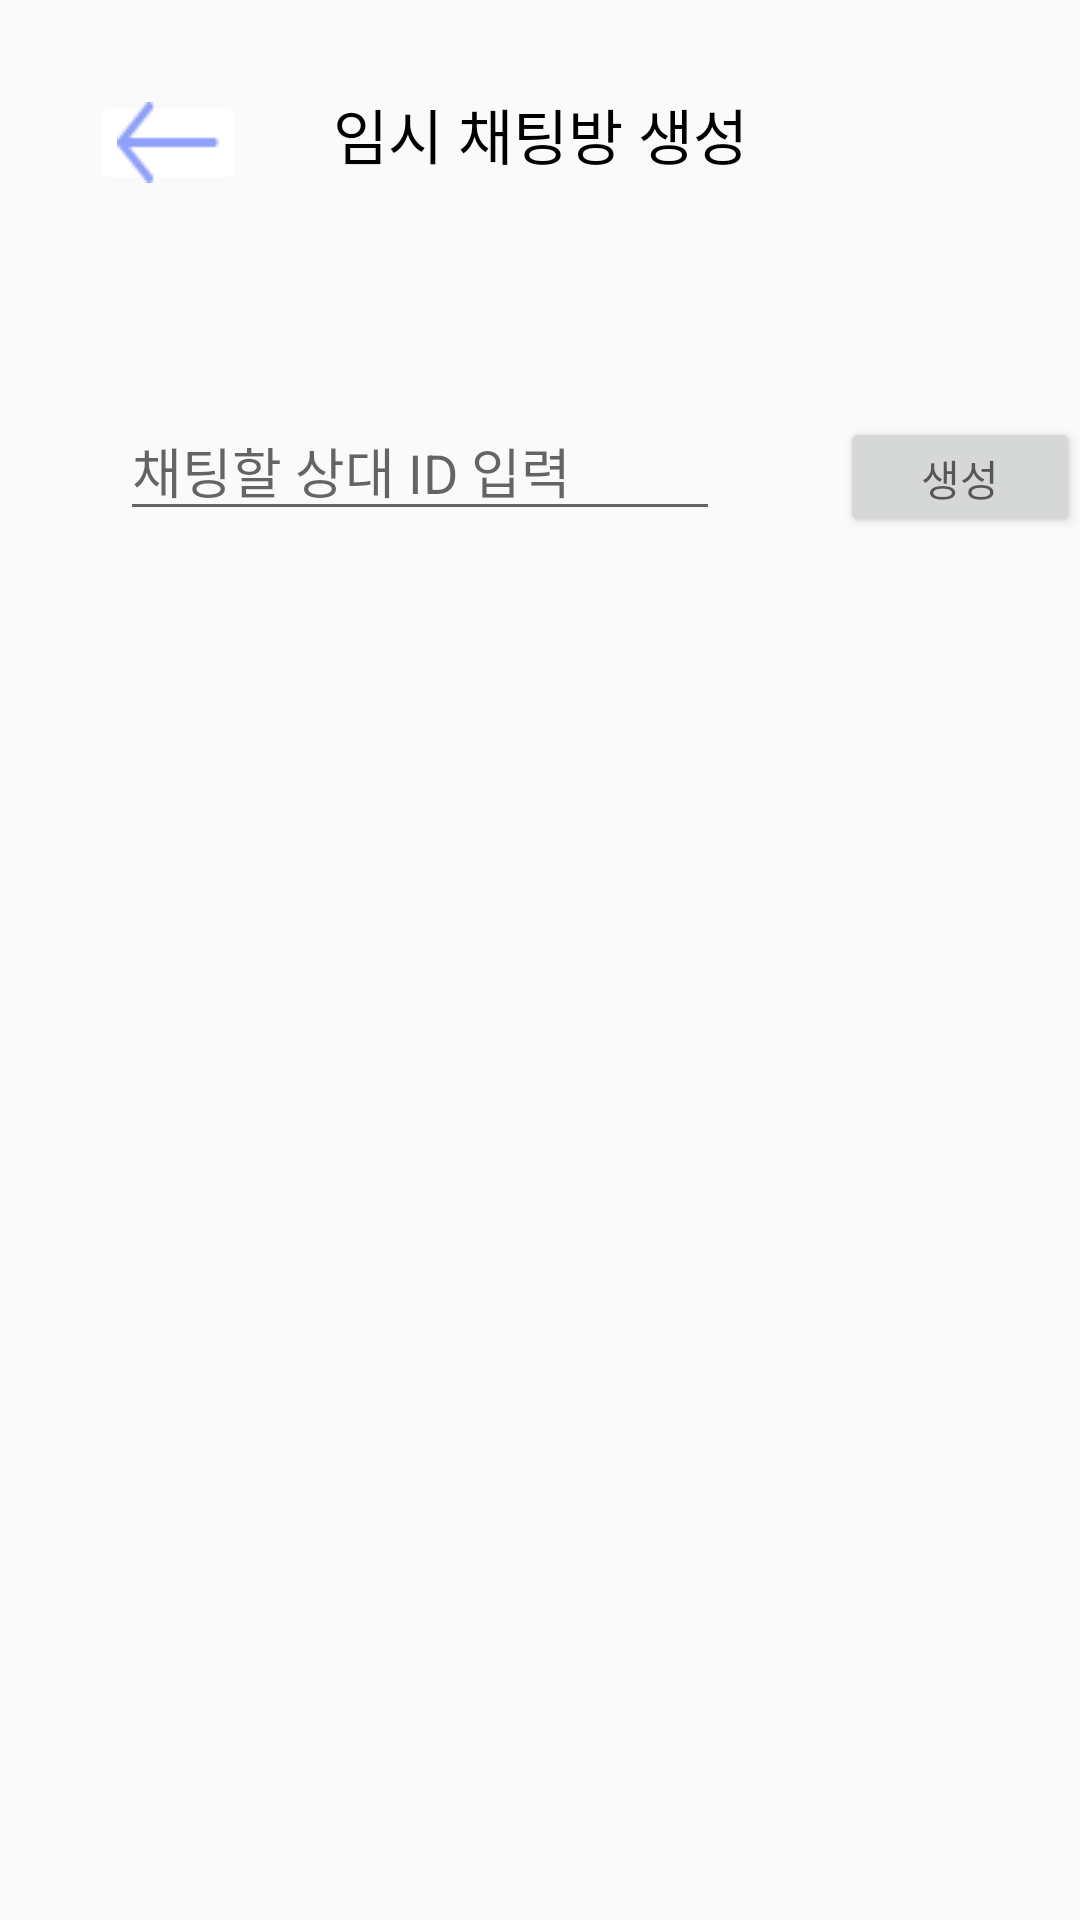

Where to tap for icons on this 1080*1920 app screen, as (x=x, y=y):
arrow left: (x=168, y=142)
